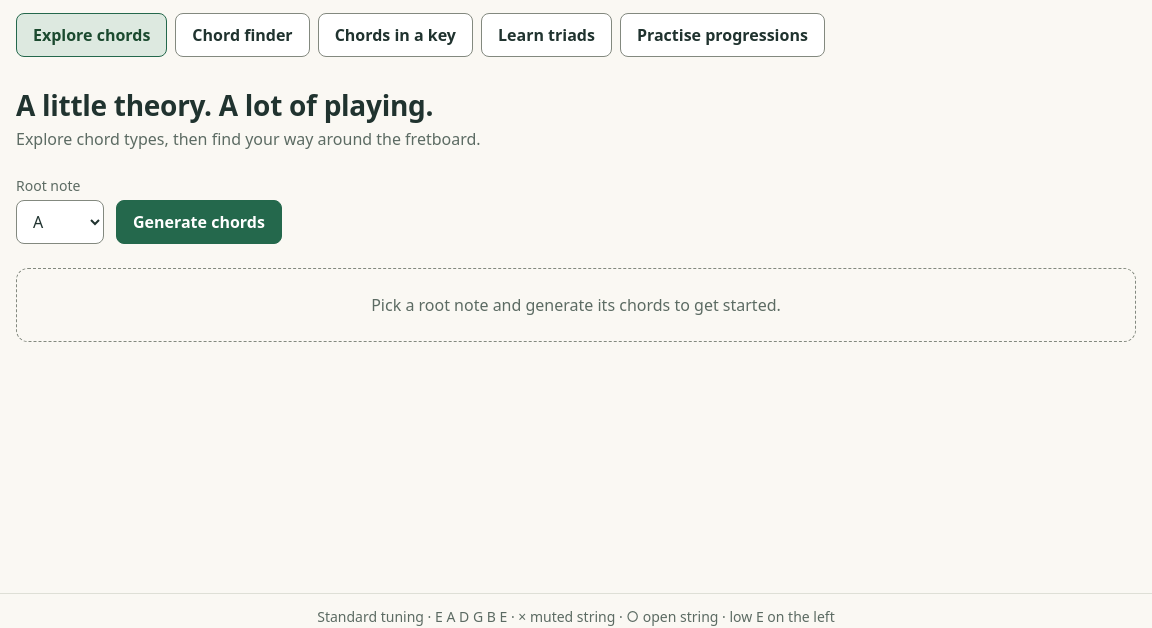
Scenario: chords in a key › selecting a chord highlights its notes, the fretboard, the summary, the triads and the action
The width and height of the screenshot is (1152, 628).
Click the tab "Chords in a key": {"x": 395, "y": 35} [318,13,473,57]
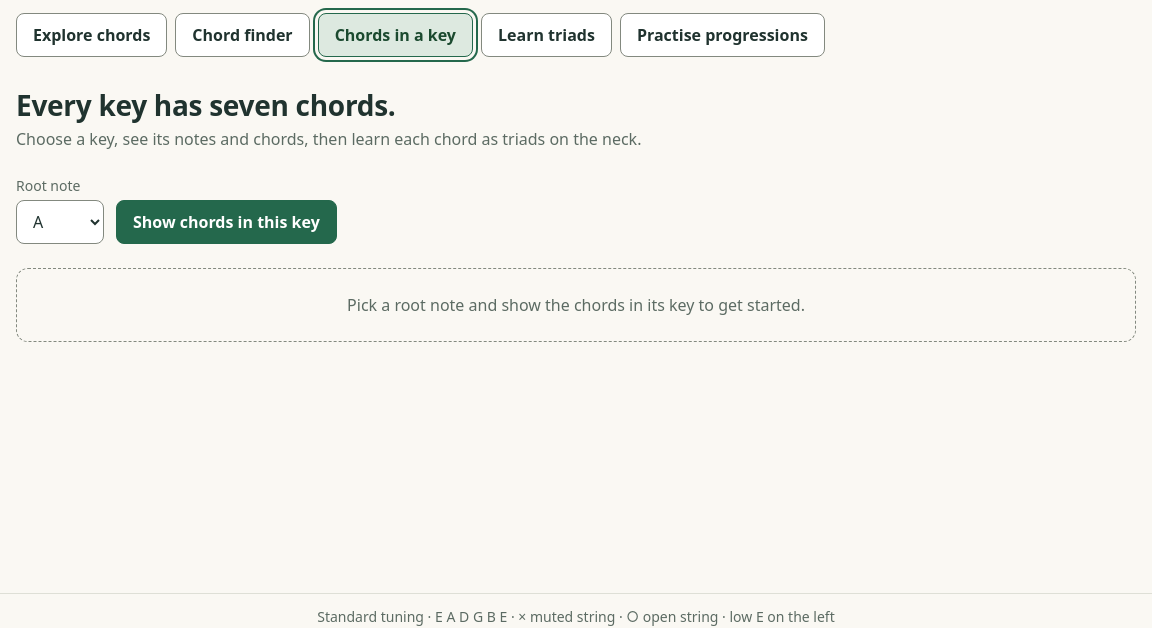
Select "C" in the dropdown labelled "Root note": {"x": 60, "y": 222} [16,200,104,244]
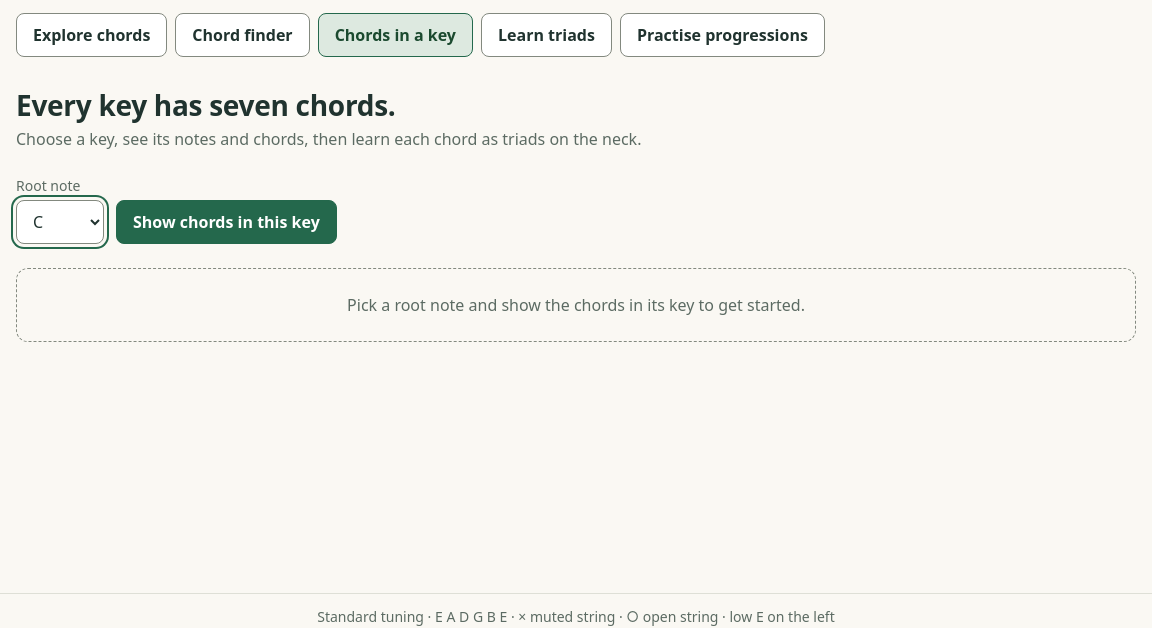
Click the button "Show chords in this key": {"x": 226, "y": 222} [116,200,337,244]
(page scrolled)
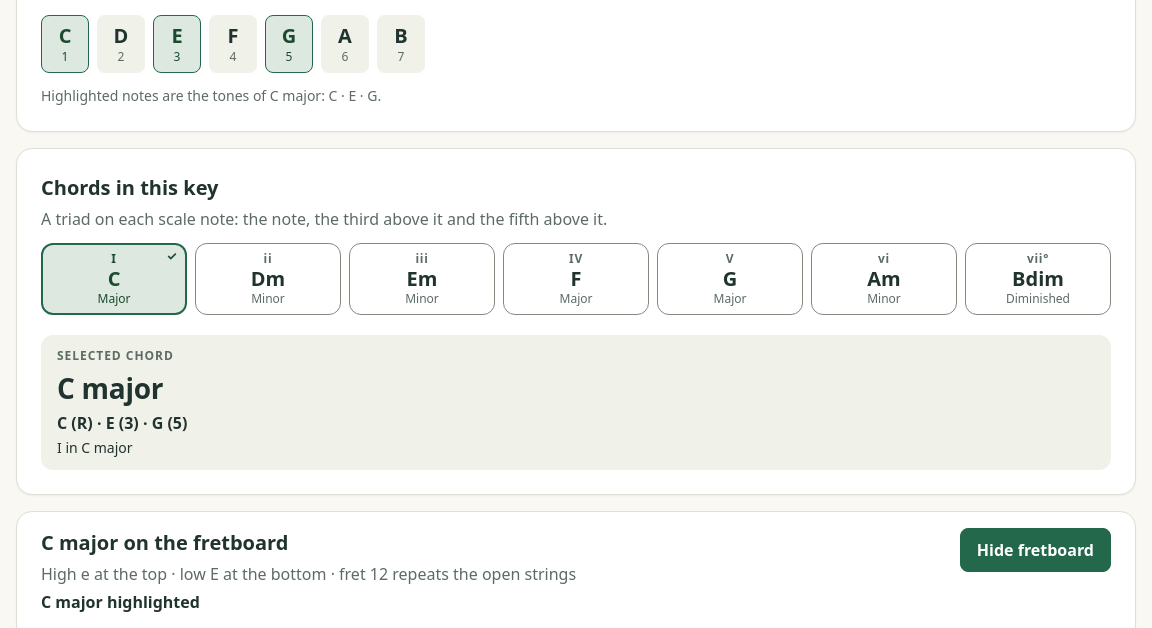
Click the button with aria-label "Dm, ii, D minor": {"x": 268, "y": 279} [195,243,341,316]
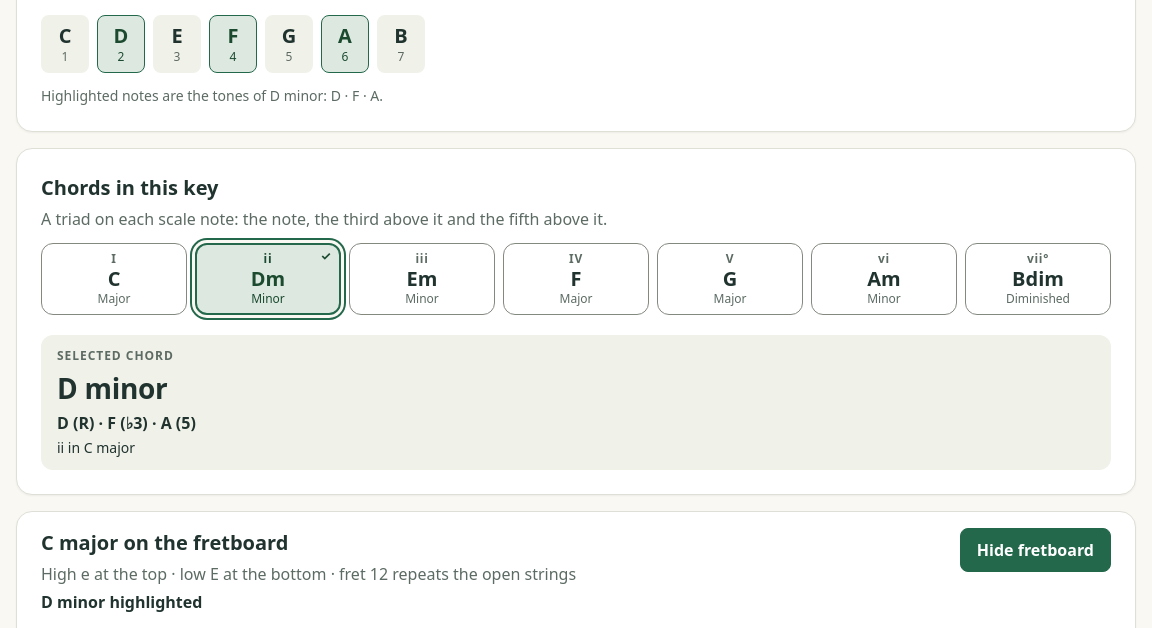
Now the text with test id "key-chord-name" reads "D minor", box [57,370,168,408]
Now the text with test id "key-chord-tones" reads "D (R) · F (♭3) · A (5)", box [57,412,196,434]
Now the text with test id "key-chord-role" reads "ii in C major", box [57,438,135,458]
Click the button with aria-label "Bdim, vii°, B diminished": {"x": 1038, "y": 279} [965,243,1111,316]
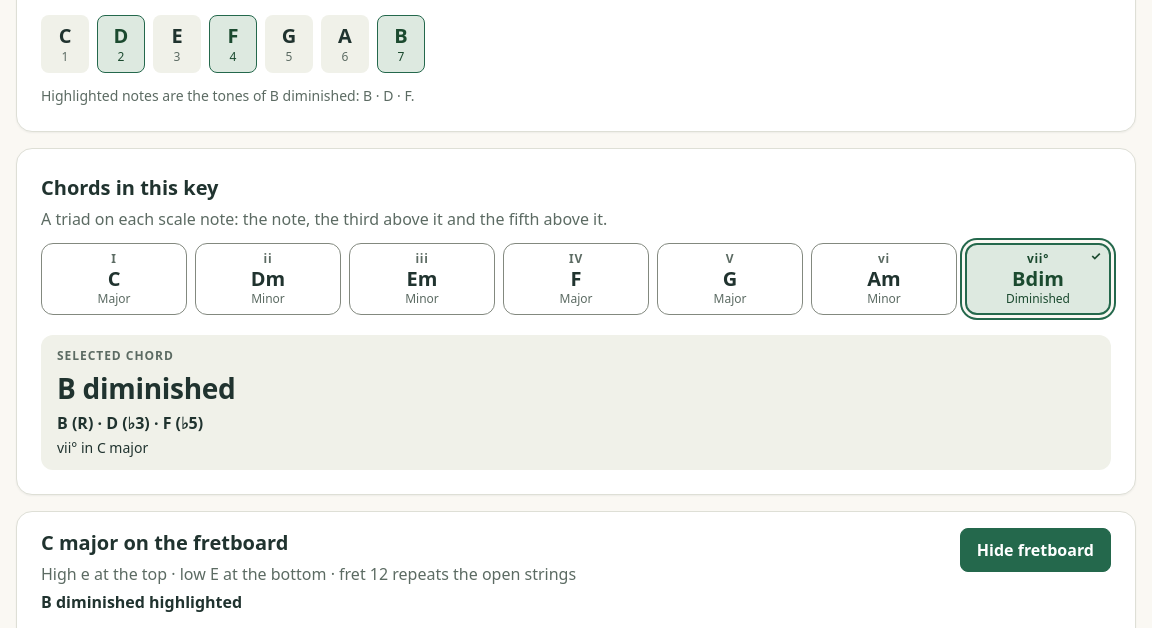
Now the text with test id "key-chord-tones" reads "B (R) · D (♭3) · F (♭5)", box [57,412,203,434]
